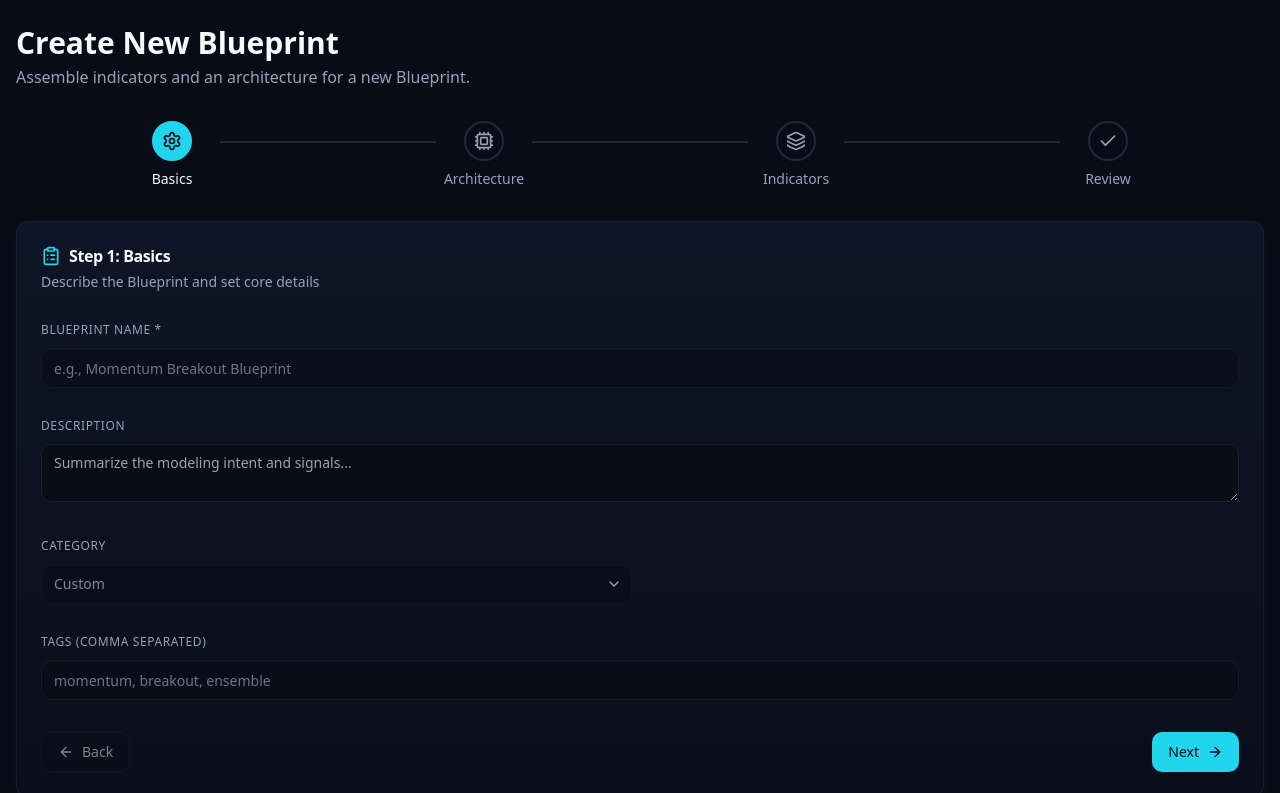
it: BlueprintWizardView › renders review summary on step 4
The image size is (1280, 793).
Step 1. Type "My BP" into the field labelled "Blueprint Name *" → (640, 368), box [41, 348, 1239, 388]
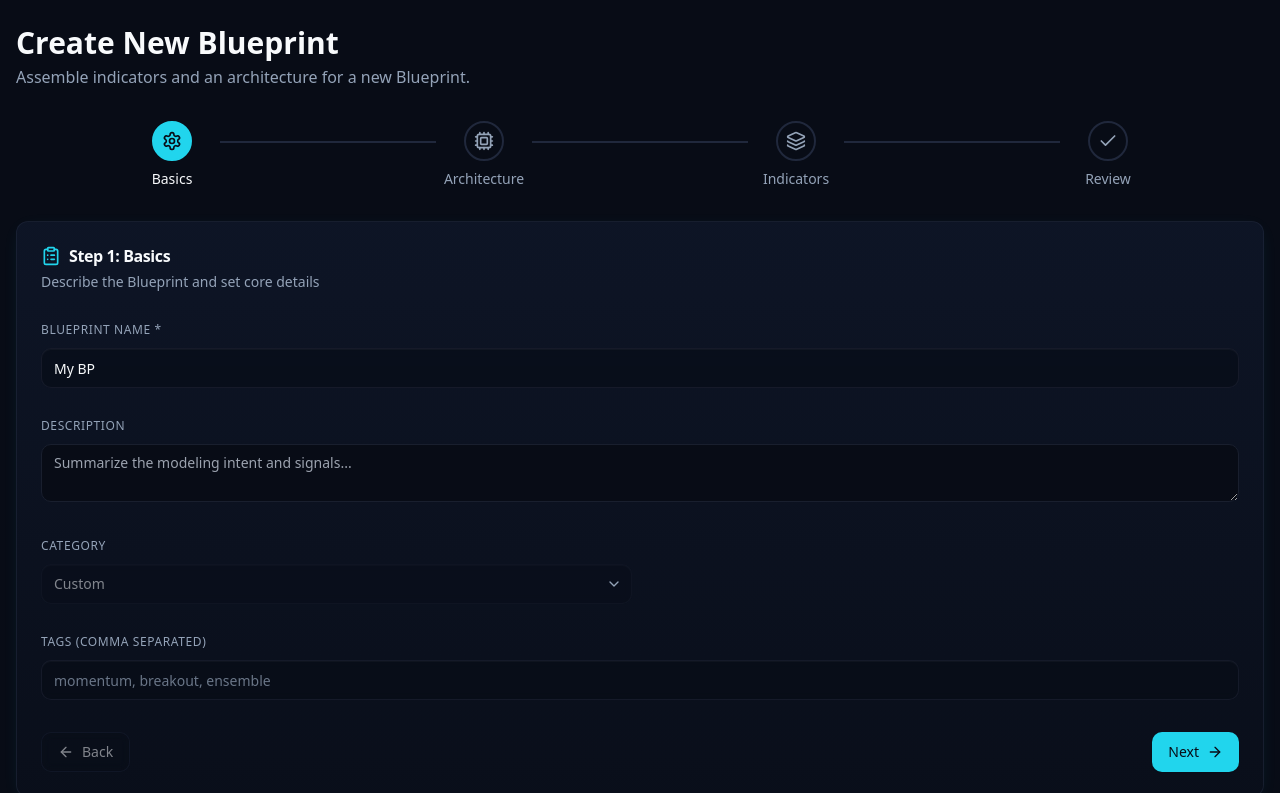
Step 2. Click the button "Next" → (1196, 752), box [1152, 732, 1239, 772]
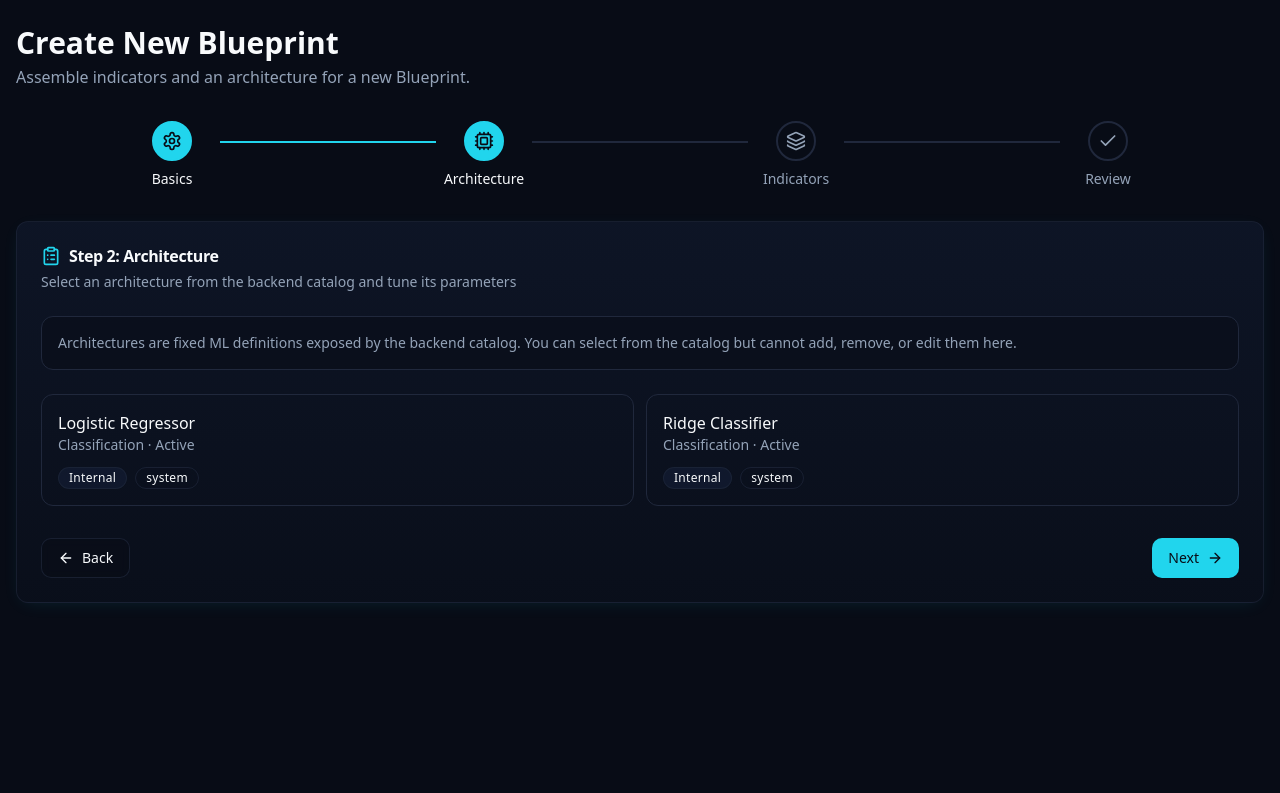
Step 3. Click the text "Logistic Regressor" → (127, 423), box [58, 411, 195, 435]
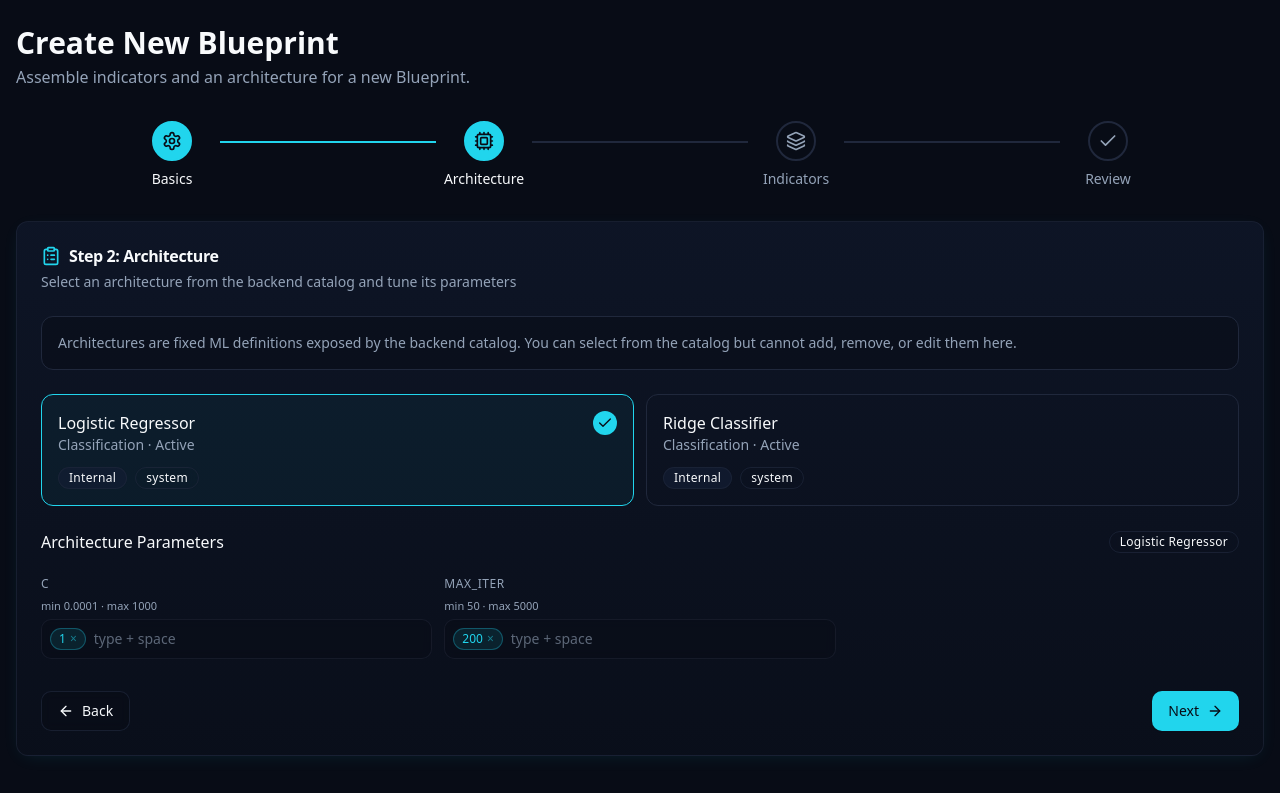
Step 4. Click the button "Next" → (1196, 710), box [1152, 690, 1239, 730]
(page scrolled)
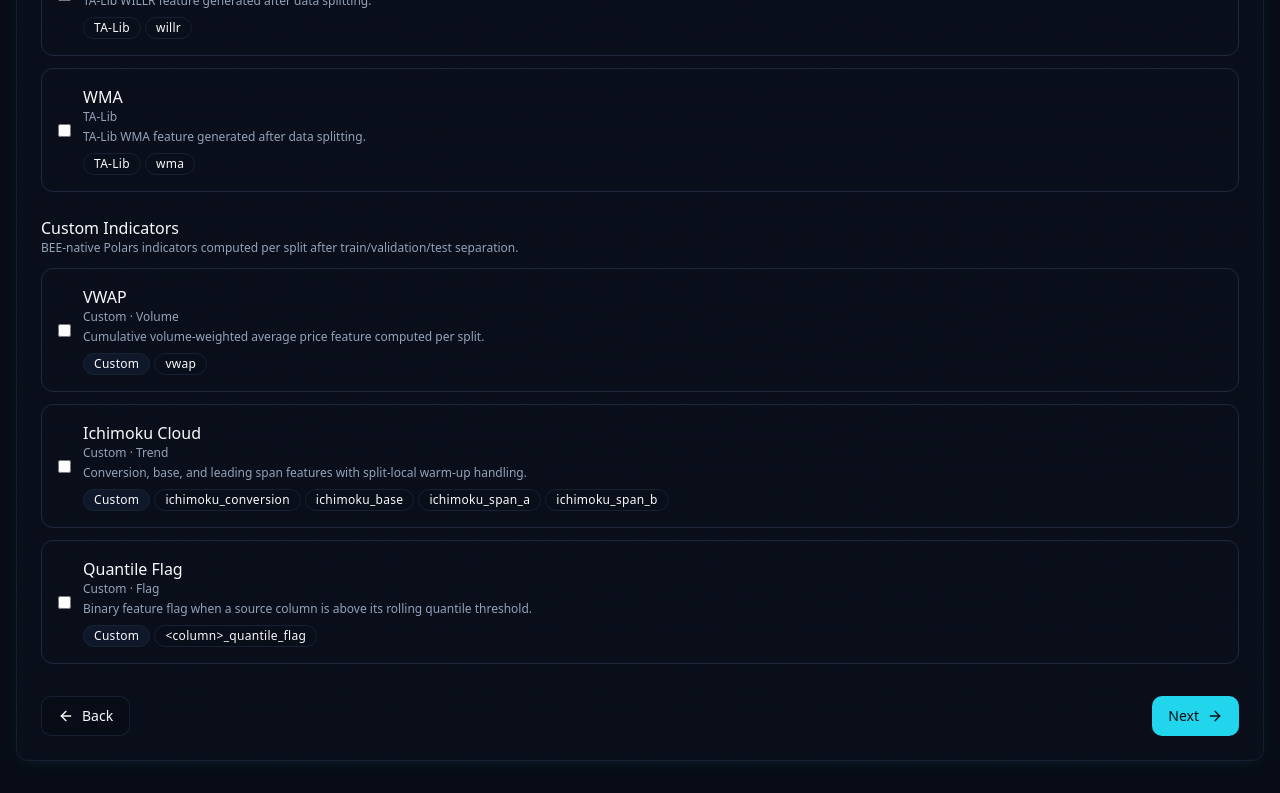
Step 5. Click the button "Next" → (1196, 716), box [1152, 696, 1239, 736]
(page scrolled)
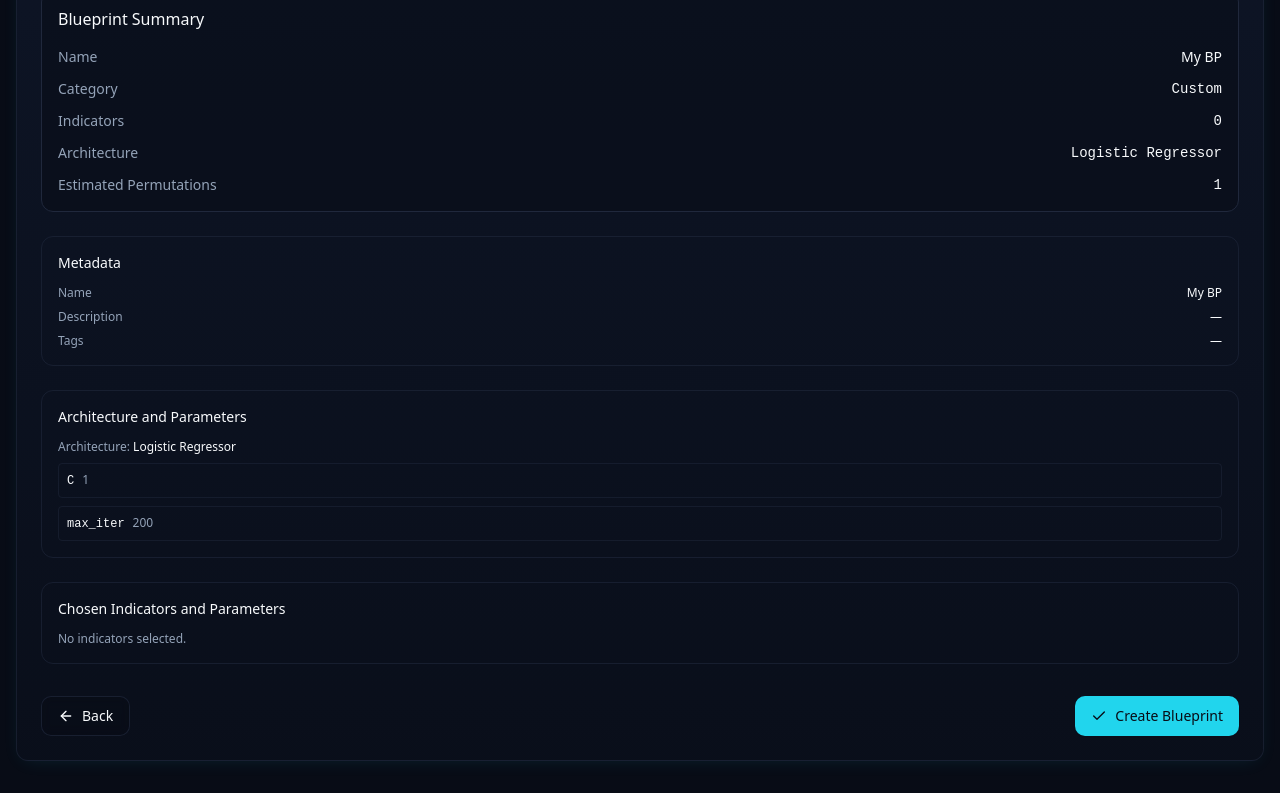
Expected: the heading "Blueprint Summary" is shown, [58, 8, 204, 30]
Expected: the text "Estimated Permutations" is shown, [58, 175, 217, 195]
Expected: the heading "Chosen Indicators and Parameters" is shown, [58, 599, 286, 618]
